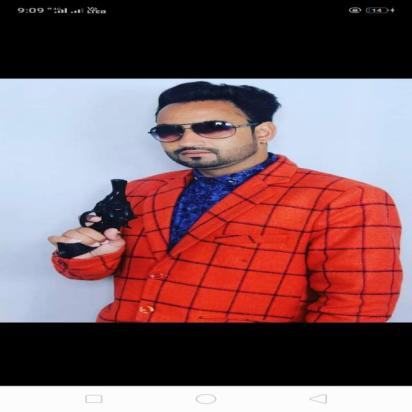Gun: (52, 178, 141, 260)
